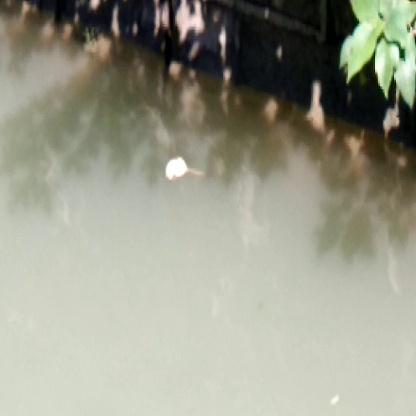grass: (335, 1, 416, 110)
